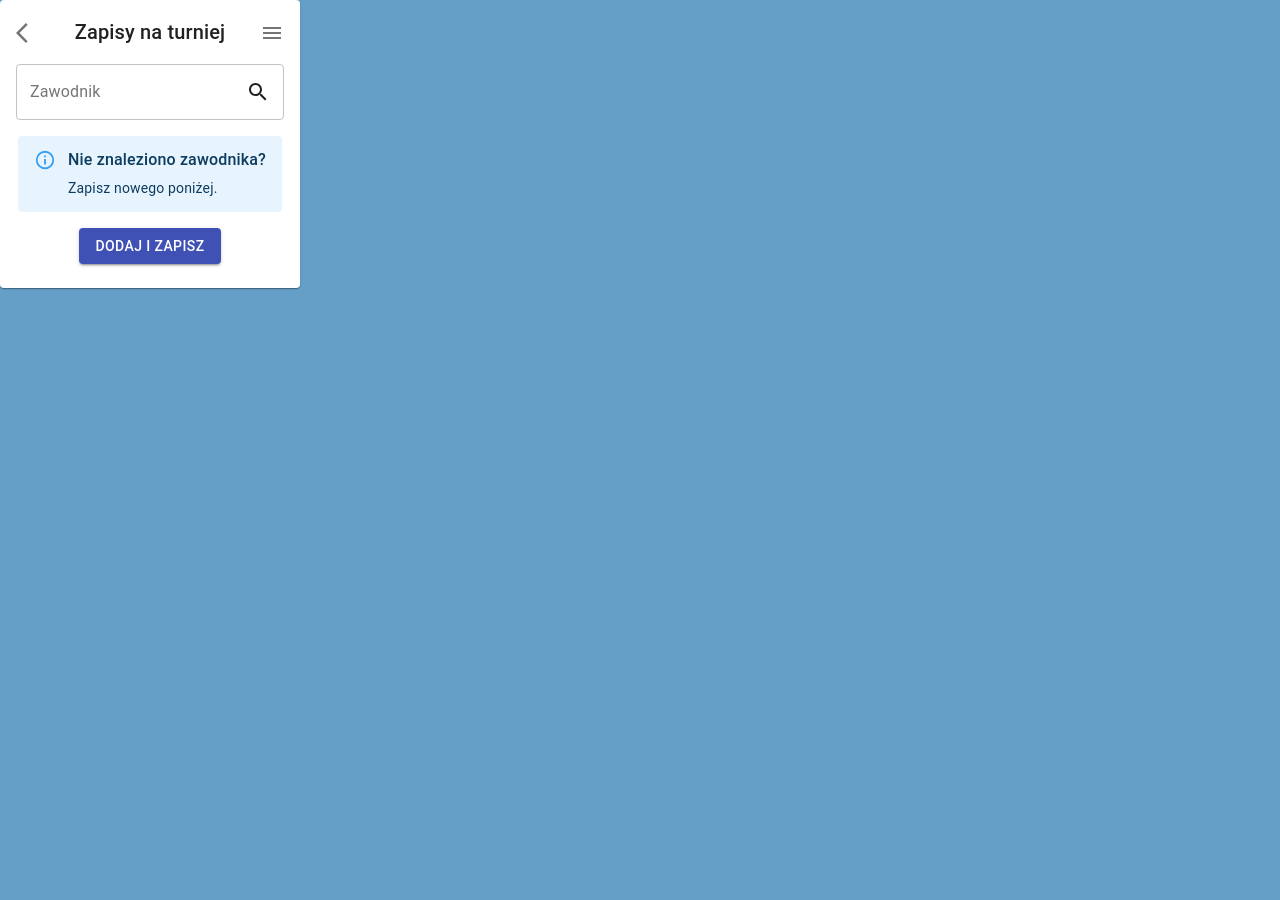
Test: Adding player form › after clicking button form should be shown and display title, inputs and button
In the field labelled "Zawodnik": (131, 92) [16,64,246,120], type "Mufasa"
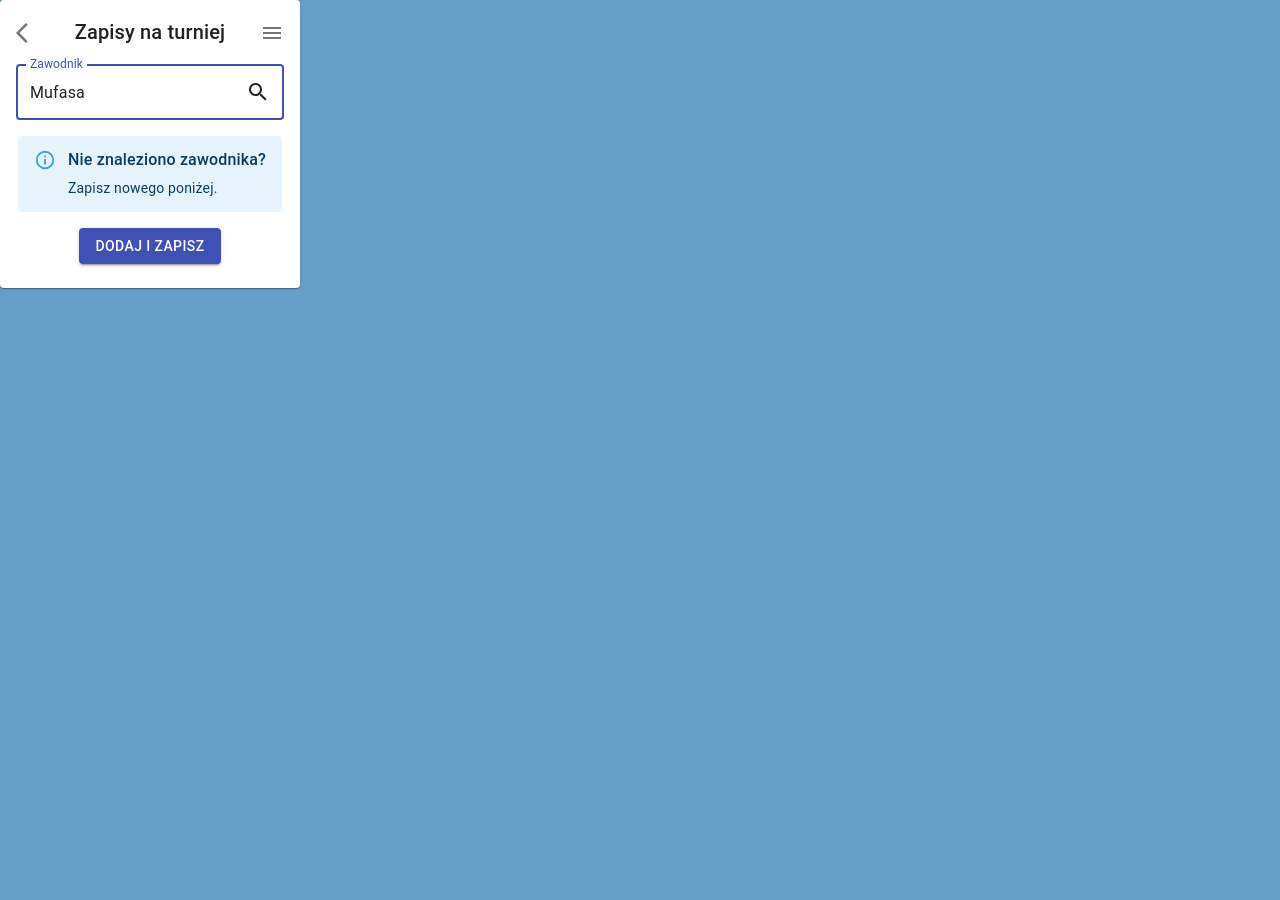
Click the button "Dodaj i zapisz": (150, 246) [80,228,221,264]
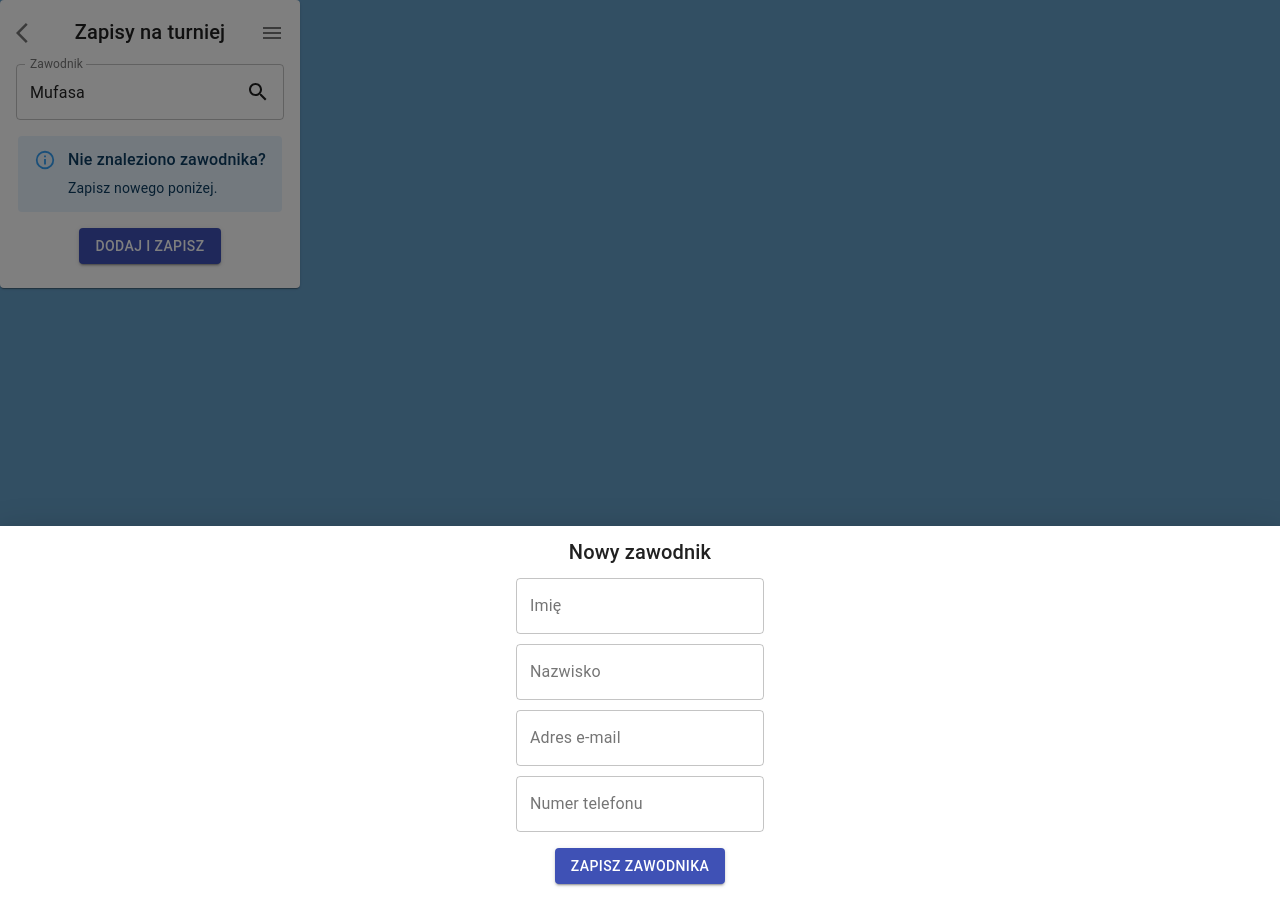
Expected: the heading "Nowy zawodnik" is shown, [569,536,711,568]
Expected: the text "Zapisz zawodnika" is shown, [571,854,709,878]
Expected: the field labelled "Imię" is shown, [516,578,764,634]
